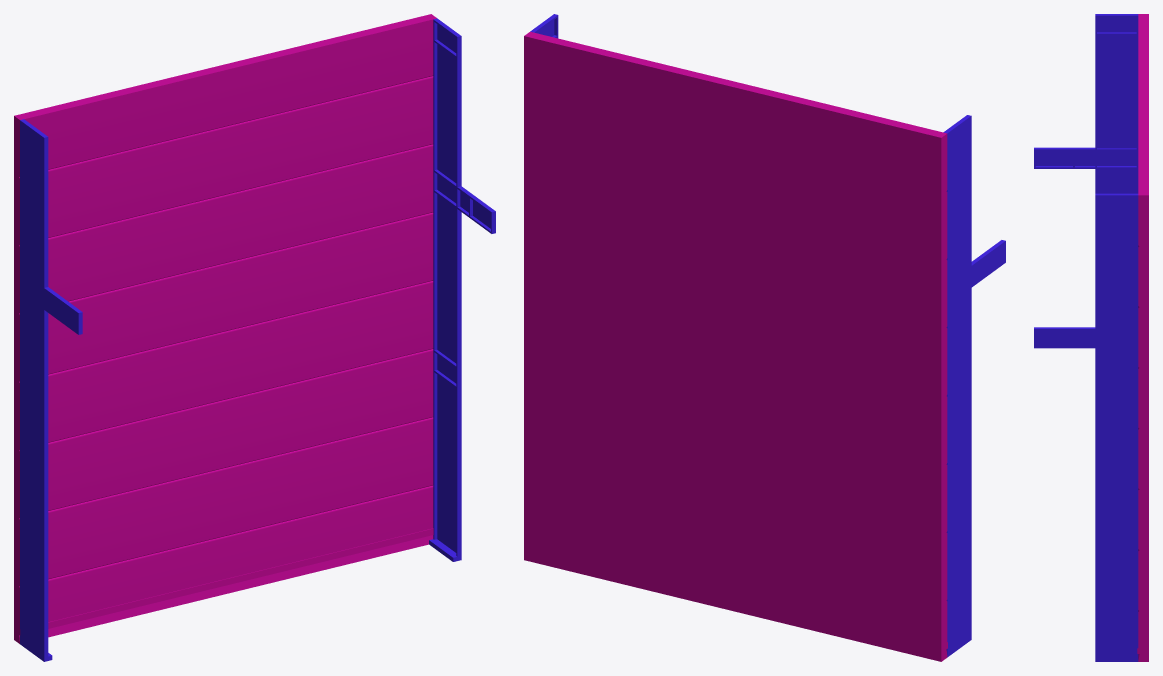
File: Wall_D.glb
The picture shows the model from 3 angles, left to right: view 1: azimuth 30°, elevation 25°; view 2: azimuth 150°, elevation 25°; view 3: azimuth 270°, elevation 25°; orthographic projection. The views are drawn at different scales.
Visible parts, largest first — view 1: Wall_D; view 2: Wall_D; view 3: Wall_D.
Boxes of the visible parts, x1,y1,x2,y2 form: Wall_D: (14, 14, 495, 661); Wall_D: (524, 14, 1005, 661); Wall_D: (1034, 14, 1148, 661).
Size of the model in its own units: 10 by 12 by 2.68.
